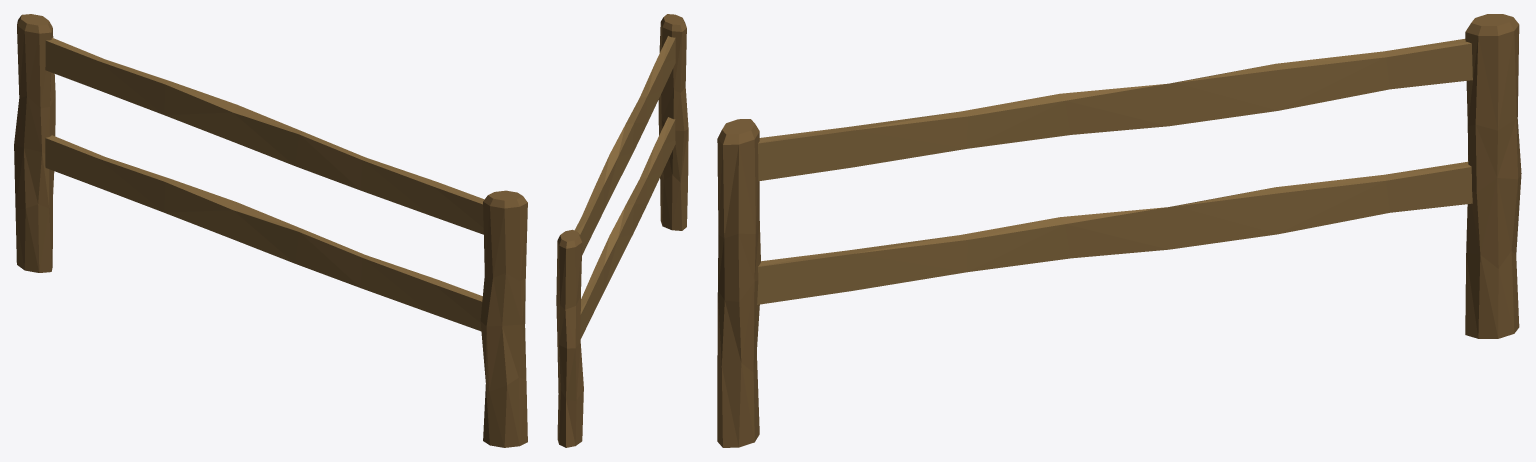
The model's file is Fence.dae.
The picture shows the model from 3 angles, left to right: view 1: azimuth 30°, elevation 25°; view 2: azimuth 150°, elevation 25°; view 3: azimuth 270°, elevation 25°; orthographic projection. The views are drawn at different scales.
Parts seen in each view (by area): view 1: Cube.118, Cube.117; view 2: Cube.118, Cube.117; view 3: Cube.118, Cube.117.
Part boxes in pixels (x1,y1,x2,y2): Cube.118: [14, 14, 484, 331]; Cube.117: [480, 190, 527, 447]; Cube.118: [556, 36, 675, 447]; Cube.117: [658, 14, 688, 230]; Cube.118: [757, 14, 1521, 338]; Cube.117: [717, 119, 760, 447].
Size of the model in its own units: 1.15 by 3.08 by 1.31.
